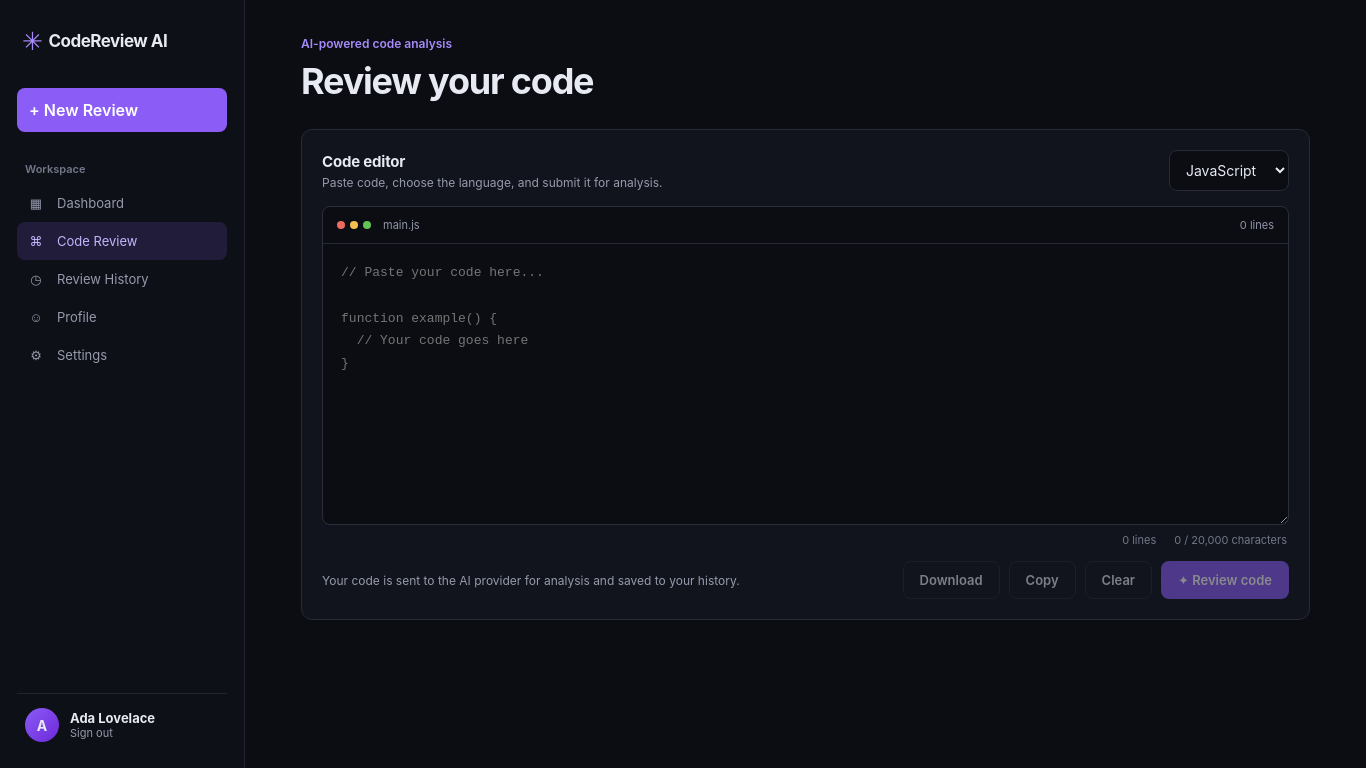
Test: code review page › clear empties the editor and hides any result
The image size is (1366, 768).
Step 1. Click the text box named "code to review" → [805, 384], box [323, 244, 1288, 524]
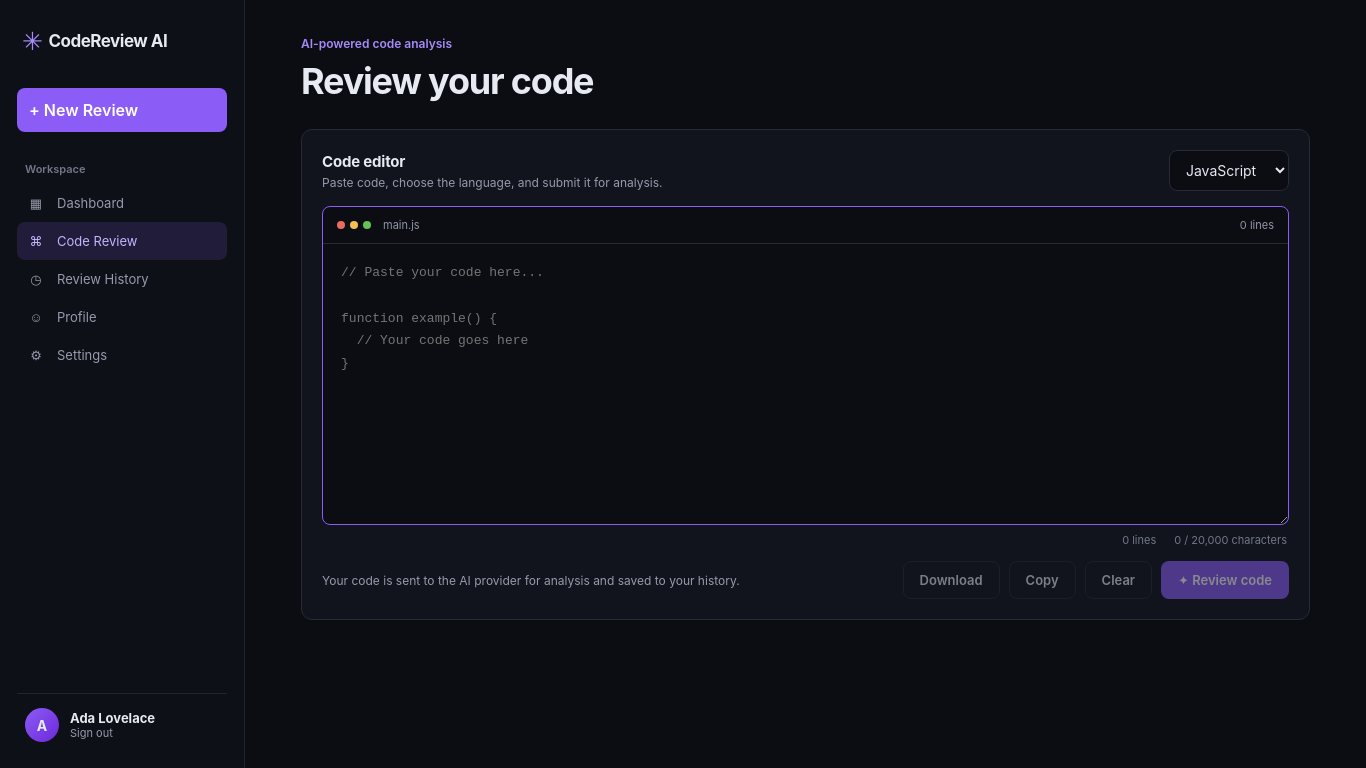
Step 2. Type keys "function f() { return 1 }"
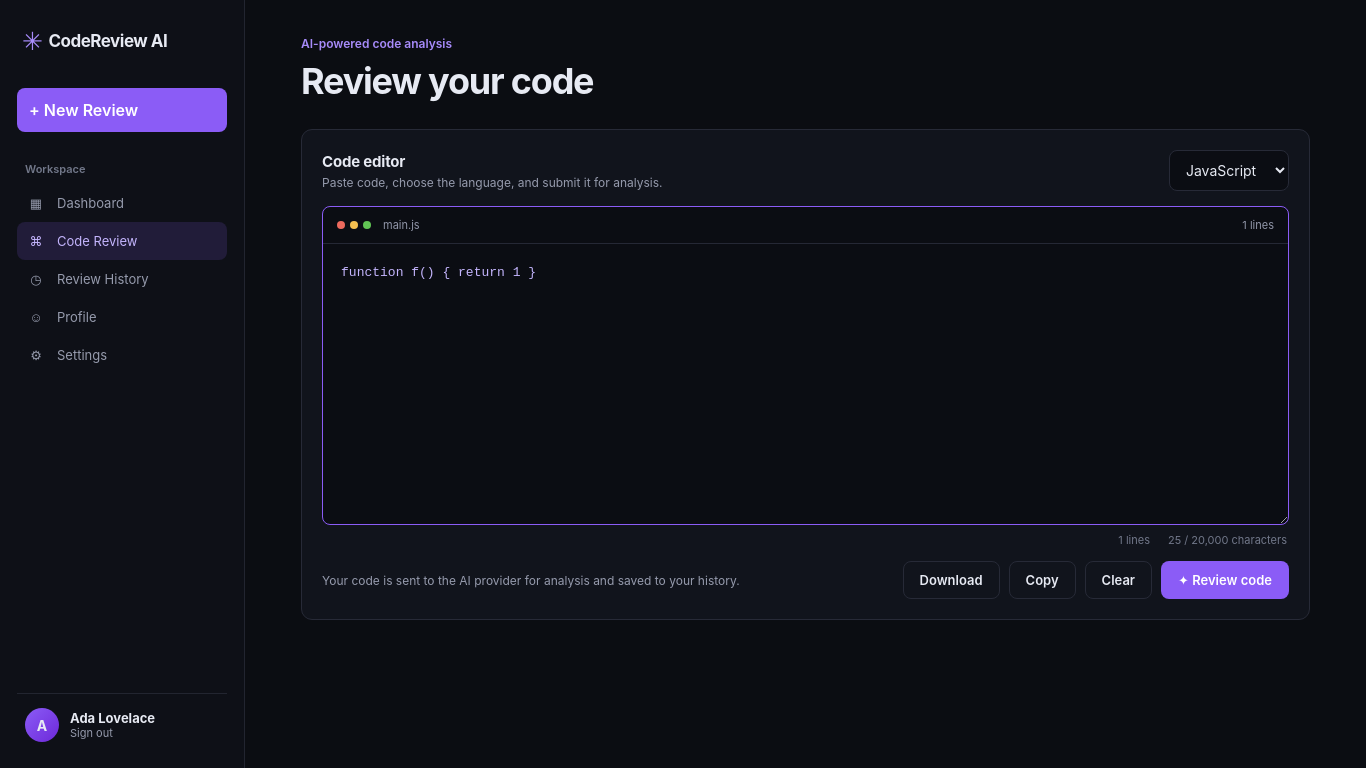
Step 3. Click the button "Clear" → [1118, 580], box [1085, 561, 1152, 599]
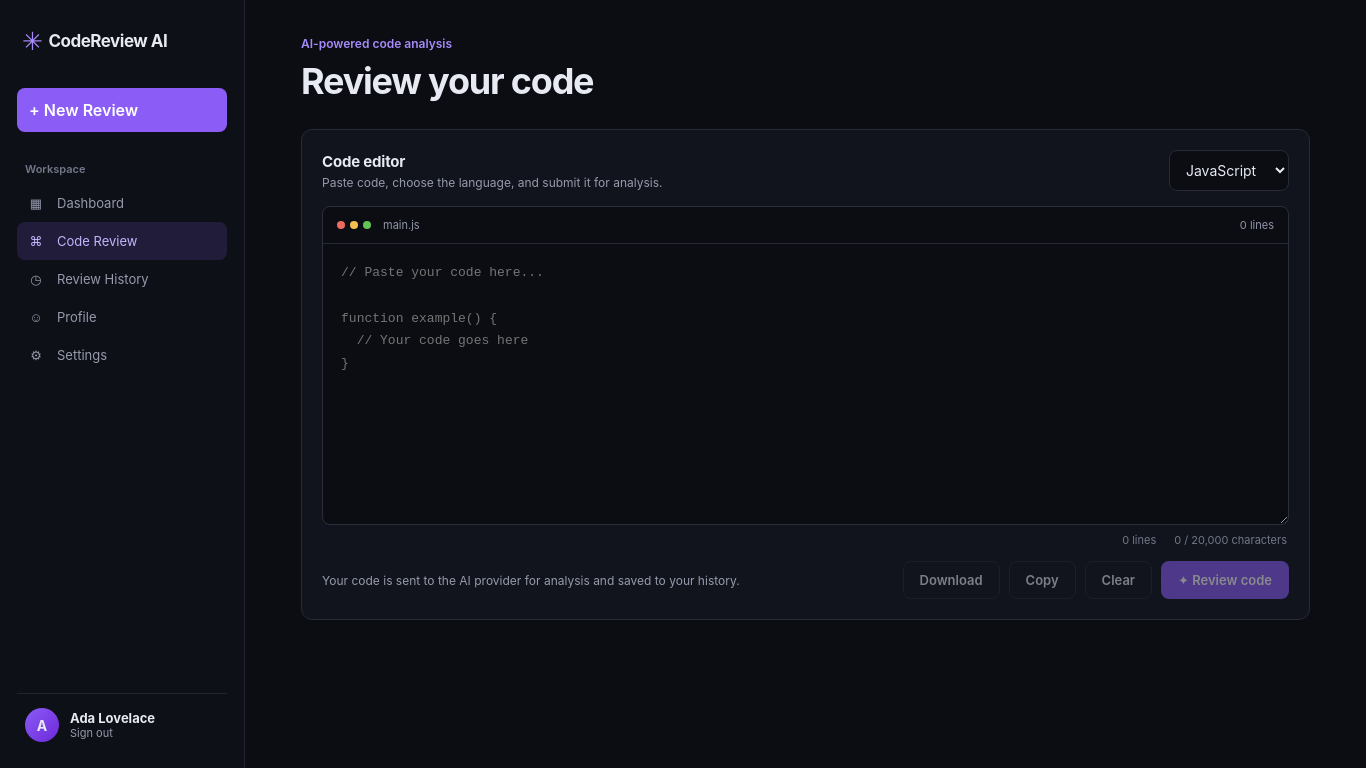
Expected: the text box named "code to review" is empty, [323, 244, 1288, 524]
